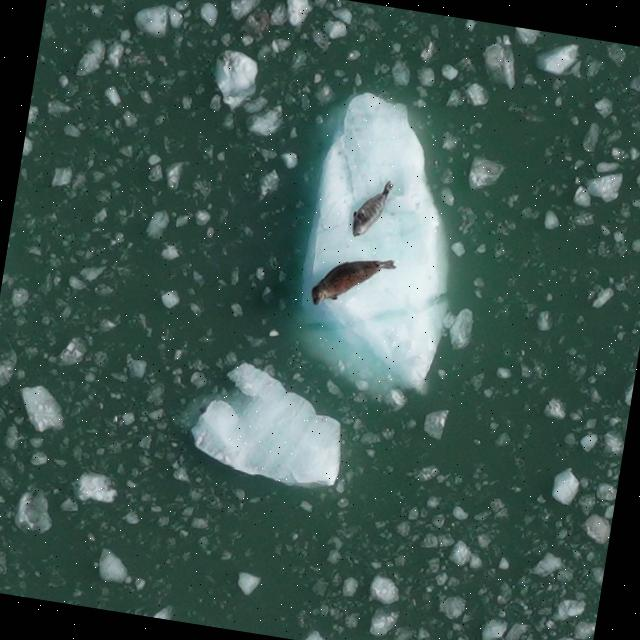seal: (307, 244, 403, 321), (346, 172, 399, 247)
